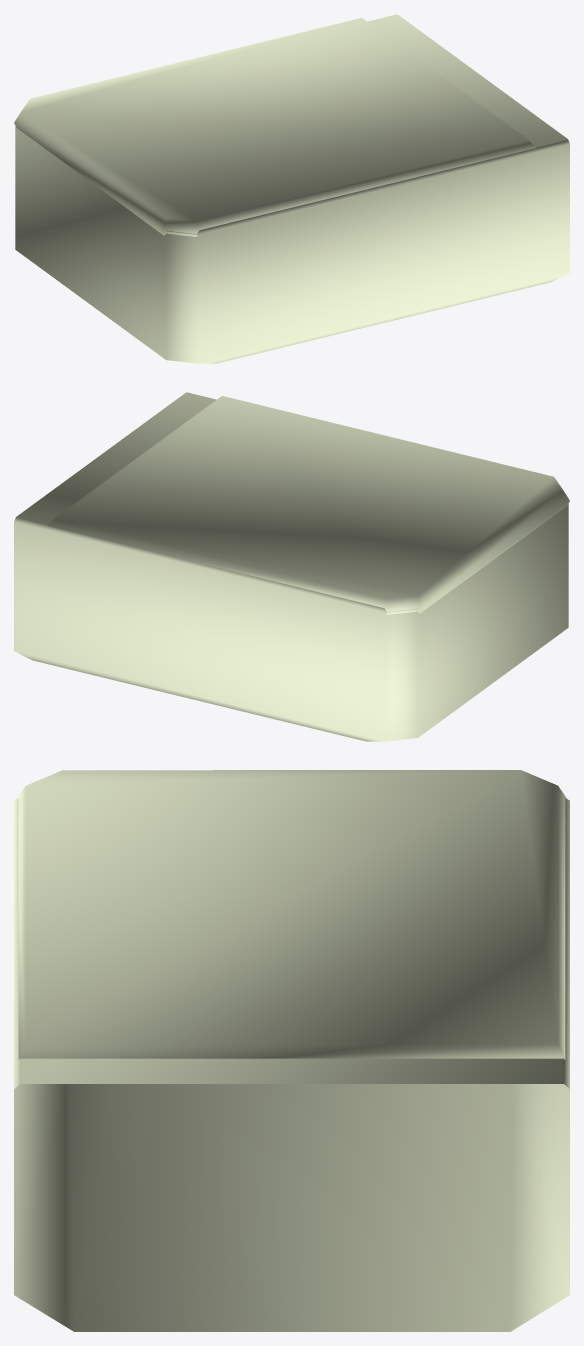
File: hotl_toilet.FBX
3 renders of one model, top to bottom at view 1: azimuth 30°, elevation 25°; view 2: azimuth 150°, elevation 25°; view 3: azimuth 270°, elevation 25°, orthographic. The views are drawn at different scales.
Visible parts, largest first — view 1: toilet; view 2: toilet; view 3: toilet.
Part boxes in pixels (<box>): toilet: <box>14,14,569,363</box>; toilet: <box>14,392,569,741</box>; toilet: <box>14,770,569,1331</box>.
Size of the model in its own units: 0.8064 by 0.3179 by 0.6186.
